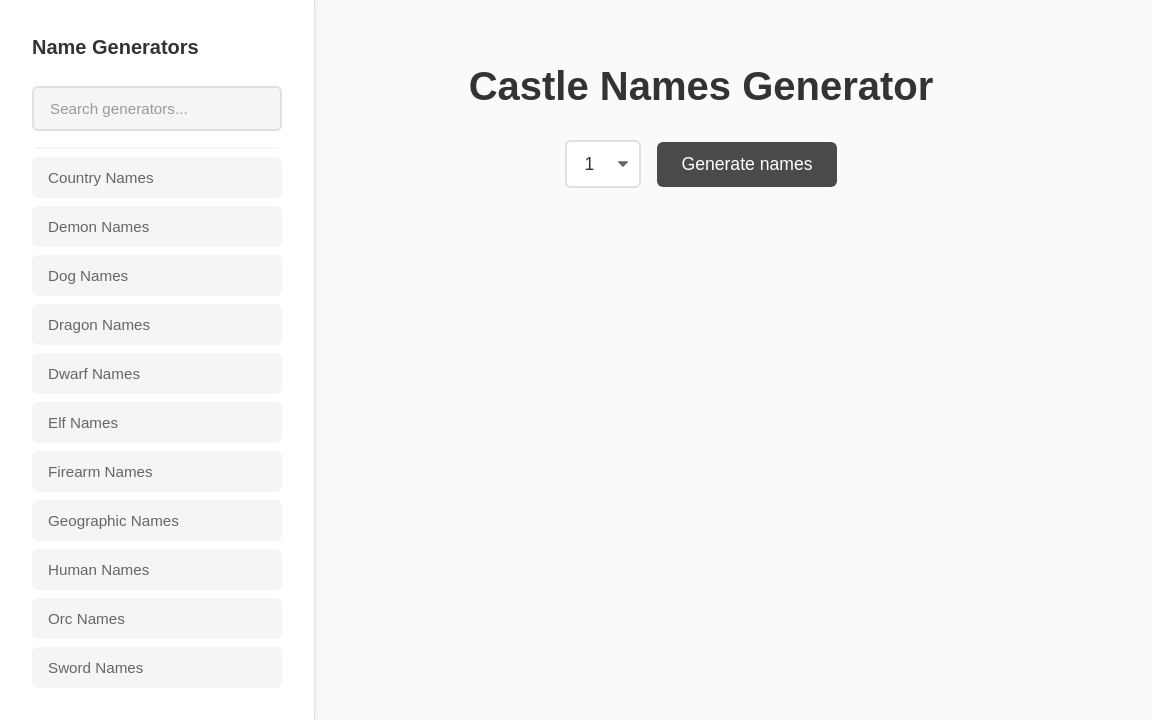
Test: App Component › changes generator type when sidebar option is clicked
(page scrolled)
Expected: the heading "Castle Names Generator" is shown, [469,64,933,108]
# Click Human Names button
Click the button "Human Names".
click(157, 570)  # box [32,549,282,590]
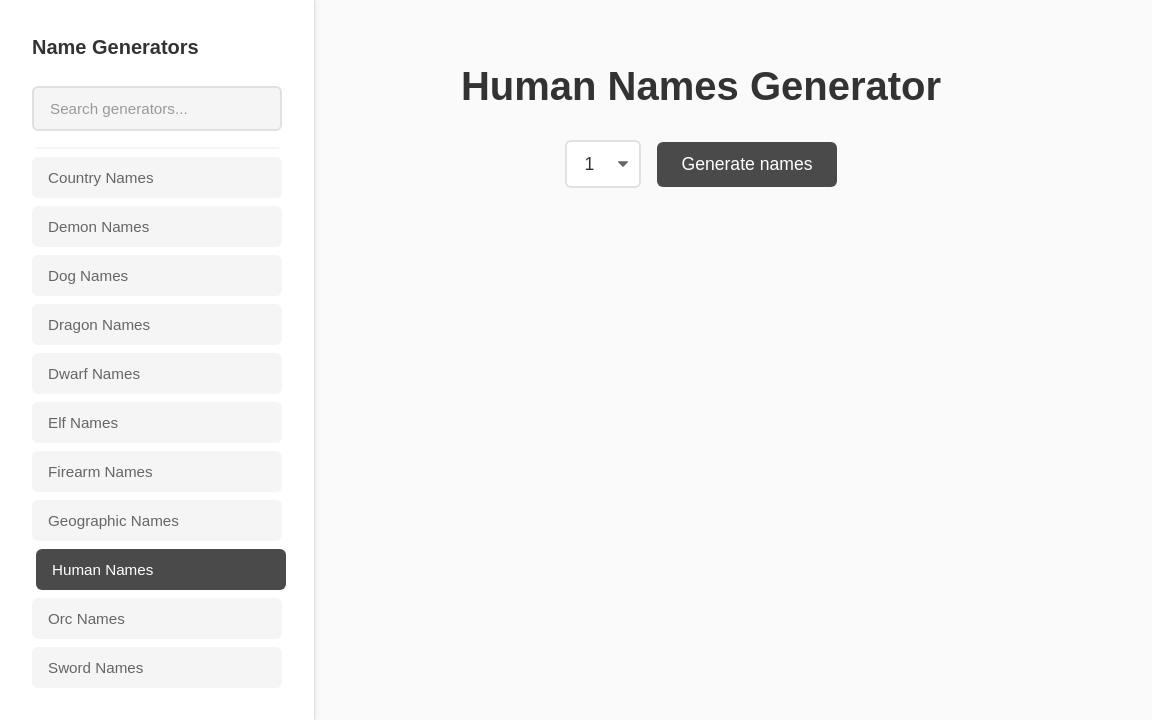
Expected: the heading "Human Names Generator" is shown, [461,64,941,108]
